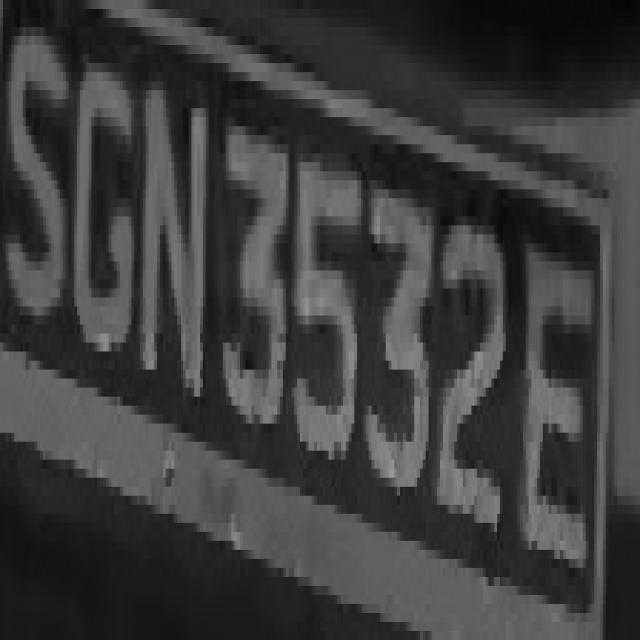2: (432, 171, 512, 550)
3: (366, 144, 434, 523), (223, 81, 286, 460)
5: (280, 117, 363, 469)
E: (523, 216, 597, 595)
G: (72, 54, 137, 397)
N: (134, 63, 209, 433)
S: (3, 18, 68, 325)
